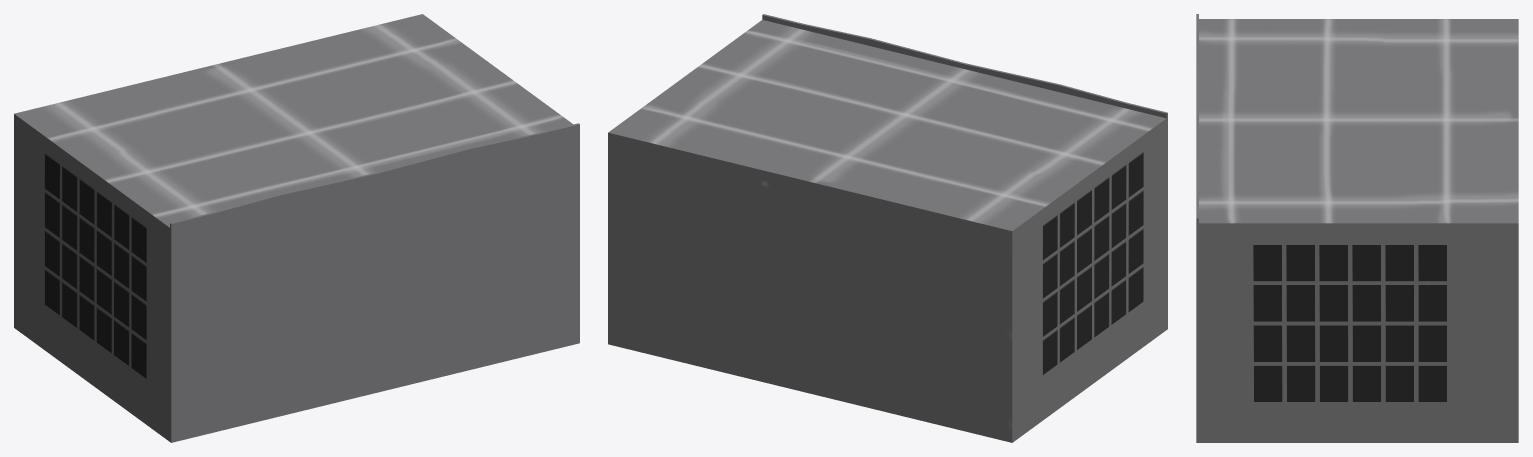
The model's file is Building1.fbx.
3 renders of one model, left to right at view 1: azimuth 30°, elevation 25°; view 2: azimuth 150°, elevation 25°; view 3: azimuth 270°, elevation 25°, orthographic. The views are drawn at different scales.
Visible parts, largest first — view 1: BuildingA:Mesh3; view 2: BuildingA:Mesh3; view 3: BuildingA:Mesh3.
Part boxes in pixels (bbox=[...]): BuildingA:Mesh3: bbox=[14, 14, 579, 442]; BuildingA:Mesh3: bbox=[608, 14, 1167, 442]; BuildingA:Mesh3: bbox=[1196, 14, 1518, 442].
Size of the model in its own units: 42.57 by 21.99 by 28.36.
